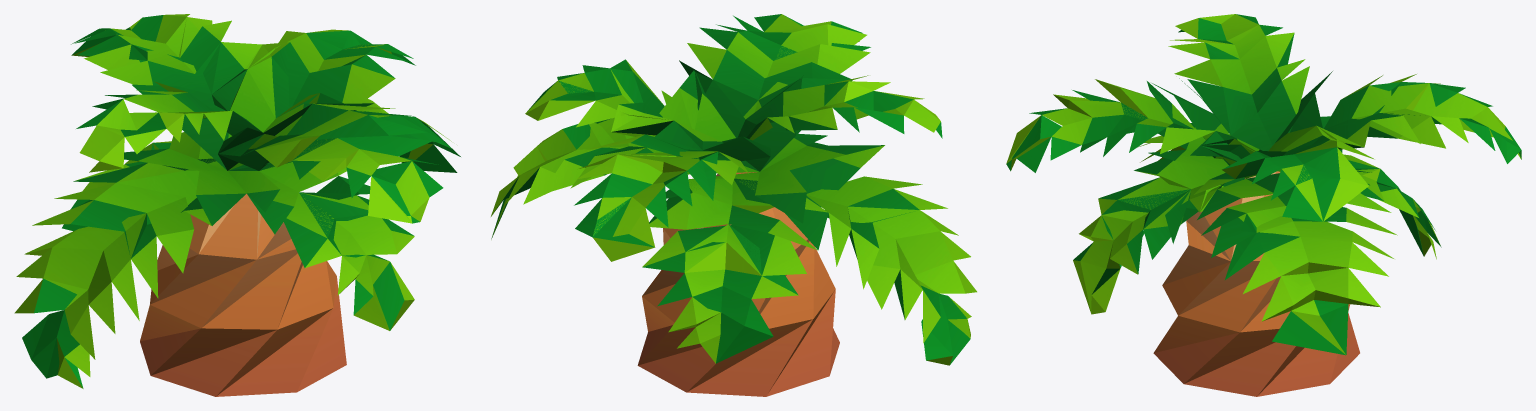
File: GL-Palmtree-07-LOD3.fbx
The picture shows the model from 3 angles, left to right: view 1: azimuth 30°, elevation 25°; view 2: azimuth 150°, elevation 25°; view 3: azimuth 270°, elevation 25°; orthographic projection. The views are drawn at different scales.
Visible parts, largest first — view 1: GL_Palmtree_07; view 2: GL_Palmtree_07; view 3: GL_Palmtree_07.
Boxes of the visible parts, box(x1,y1,x2,y2) form: GL_Palmtree_07: box(14, 14, 460, 396); GL_Palmtree_07: box(491, 14, 976, 396); GL_Palmtree_07: box(1006, 14, 1521, 396).
Size of the model in its own units: 2.96 by 1.83 by 3.13.
